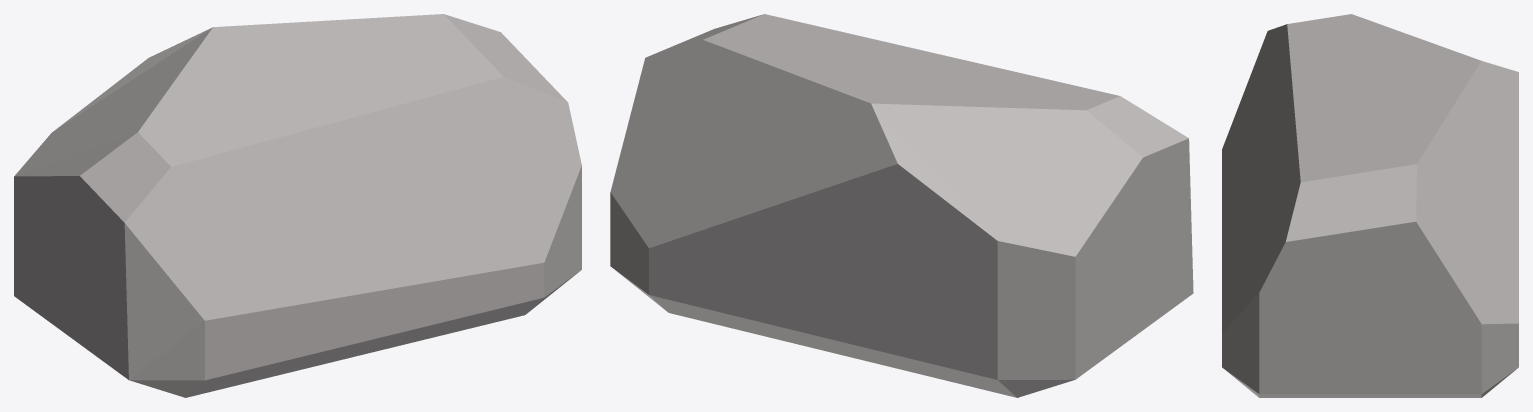
The model's file is Rock_Block_m_08.fbx.
3 renders of one model, left to right at view 1: azimuth 30°, elevation 25°; view 2: azimuth 150°, elevation 25°; view 3: azimuth 270°, elevation 25°, orthographic. The views are drawn at different scales.
Visible parts, largest first — view 1: Rock_Block_m_08; view 2: Rock_Block_m_08; view 3: Rock_Block_m_08.
Boxes of the visible parts, <box> form: Rock_Block_m_08: <box>14,14,581,397</box>; Rock_Block_m_08: <box>610,14,1193,397</box>; Rock_Block_m_08: <box>1222,14,1518,397</box>.
Bounding box in the file's own units: 117 × 62.21 × 68.58.
